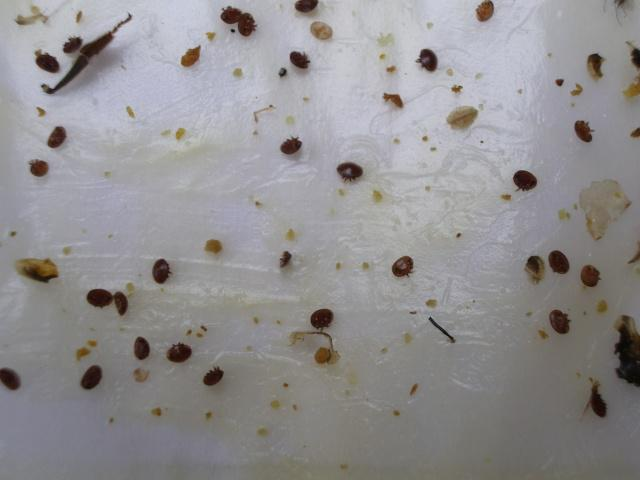Varroa: (55, 27, 91, 63), (267, 242, 303, 278), (104, 285, 140, 321), (546, 313, 574, 342), (289, 45, 316, 72), (386, 251, 412, 278), (307, 307, 331, 331), (544, 252, 568, 275), (571, 116, 592, 142), (471, 3, 495, 25), (47, 128, 68, 151), (82, 365, 104, 386), (206, 364, 227, 386), (586, 395, 606, 416), (514, 169, 534, 189), (337, 159, 358, 178), (419, 52, 438, 72), (4, 366, 22, 387), (129, 338, 147, 358), (30, 157, 49, 175), (165, 345, 186, 361), (285, 139, 298, 152), (589, 267, 601, 280), (92, 288, 105, 299), (159, 262, 170, 274), (39, 61, 48, 67)
